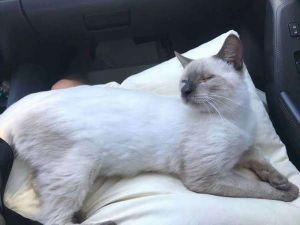siamese: (168, 30, 251, 123)
